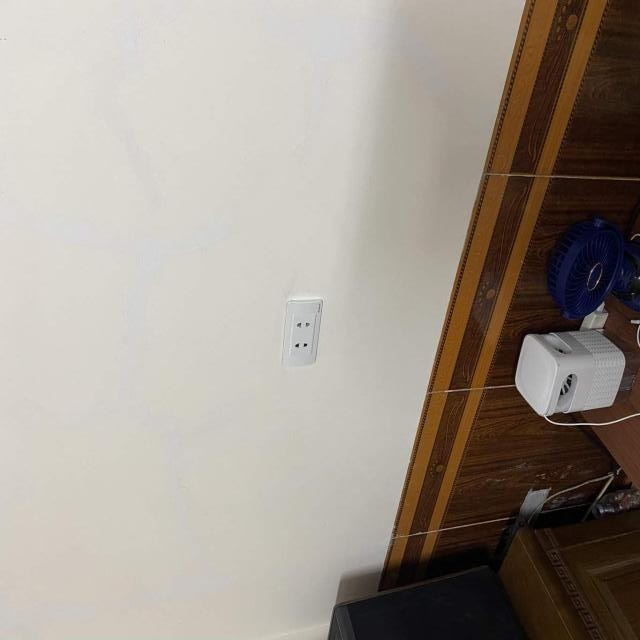outlet: (281, 300, 323, 368)
